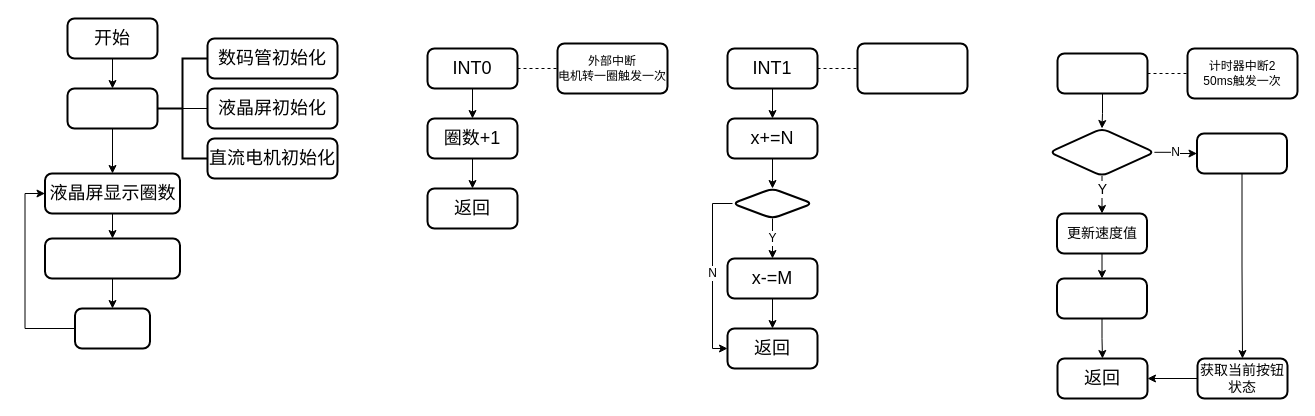
Image size: 1315x416. Some labels were removed from this diagram. Each missing label, with the centre of its shape:
"INT2" goes at point 1102,73.
"X>M?" goes at point 772,203.
"初始化" goes at point 112,108.
"动态调整N" goes at point 1102,298.
"延时" goes at point 112,328.
"数码管显示圈数" goes at point 112,258.
"触发了20次？" goes at point 1101,151.
"计时器中断1 0.1ms触发一次" goes at point 912,68.
"重置计数初值" goes at point 1242,153.
